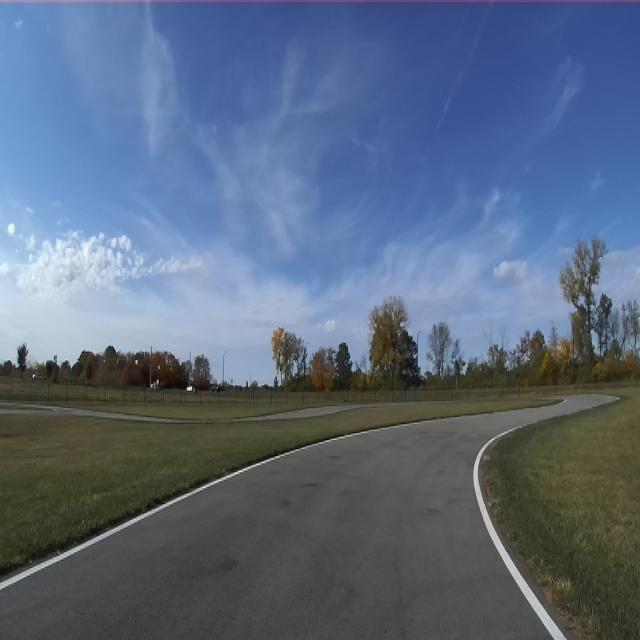white-line: (0, 420, 434, 593), (474, 425, 566, 639)
